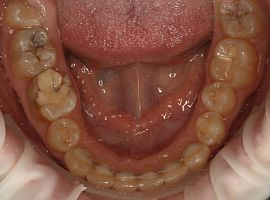LL1BC_healthy: (195, 112, 226, 144)
LL1M_healthy: (209, 38, 259, 88)
LL2BC_healthy: (201, 81, 236, 115)
LL2M_decay: (217, 1, 265, 37)
LLCI_healthy: (140, 169, 162, 193)
LLC_healthy: (183, 142, 211, 170)
LLLI_healthy: (160, 164, 189, 186)
LR1BC_healthy: (45, 119, 82, 152)
LR1M_decay: (9, 28, 56, 78)
LR2BC_decay: (30, 69, 77, 123)
LR2M_decay: (4, 1, 50, 29)
LRCI_healthy: (113, 172, 138, 192)
LRC_healthy: (65, 149, 93, 176)
LRLI_healthy: (88, 166, 115, 189)
